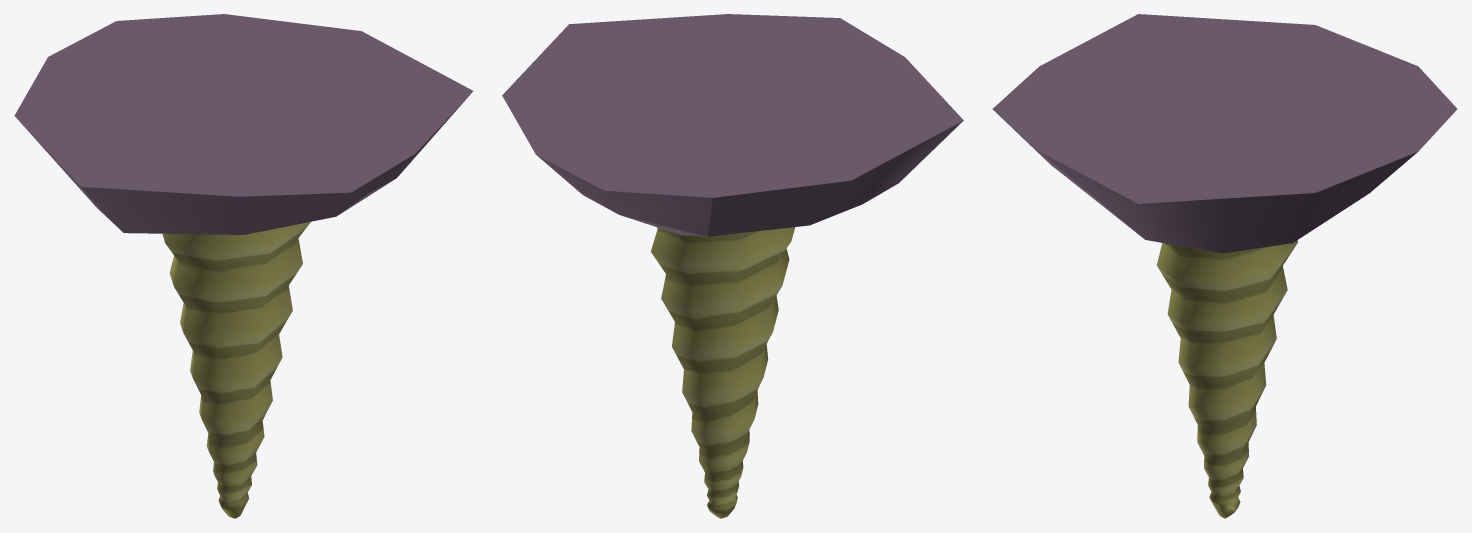
Rendered from m_environment2_stalagmite_1_an_4.fbx.
3 renders of one model, left to right at view 1: azimuth 30°, elevation 25°; view 2: azimuth 150°, elevation 25°; view 3: azimuth 270°, elevation 25°, orthographic.
Visible parts, largest first — view 1: polySurface295; view 2: polySurface295; view 3: polySurface295.
Part boxes in pixels (box(x1,y1,x2,y2)): polySurface295: box(14, 14, 472, 518); polySurface295: box(502, 14, 963, 518); polySurface295: box(992, 14, 1457, 518).
Size of the model in its own units: 9.05 by 9.09 by 9.37.
